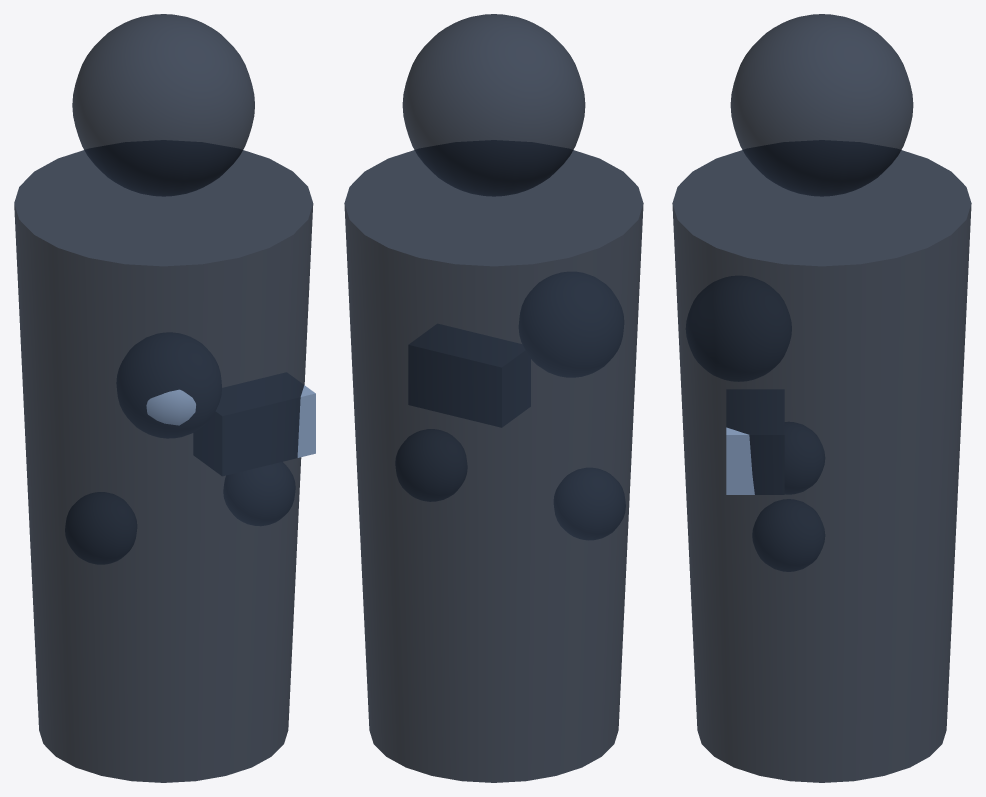
Rendered from human.glb.
3 renders of one model, left to right at view 1: azimuth 30°, elevation 25°; view 2: azimuth 150°, elevation 25°; view 3: azimuth 270°, elevation 25°, orthographic.
Parts seen in each view (by area): view 1: body_torso, body_head, mesh_heart, mesh_liver; view 2: body_torso, body_head, mesh_liver, mesh_heart; view 3: body_torso, body_head, mesh_liver, mesh_heart.
Part boxes in pixels (x1=…): body_torso: x1=14, y1=150, x2=313, y2=782; body_head: x1=72, y1=14, x2=254, y2=196; mesh_heart: x1=126, y1=333, x2=217, y2=437; mesh_liver: x1=200, y1=374, x2=315, y2=471; body_torso: x1=344, y1=150, x2=643, y2=782; body_head: x1=402, y1=14, x2=585, y2=196; mesh_liver: x1=421, y1=327, x2=509, y2=425; mesh_heart: x1=531, y1=272, x2=623, y2=376; body_torso: x1=672, y1=150, x2=971, y2=782; body_head: x1=730, y1=14, x2=913, y2=196; mesh_liver: x1=726, y1=390, x2=777, y2=494; mesh_heart: x1=687, y1=277, x2=791, y2=379.
Bounding box in the file's own units: 1.8 × 4.7 × 1.8.
